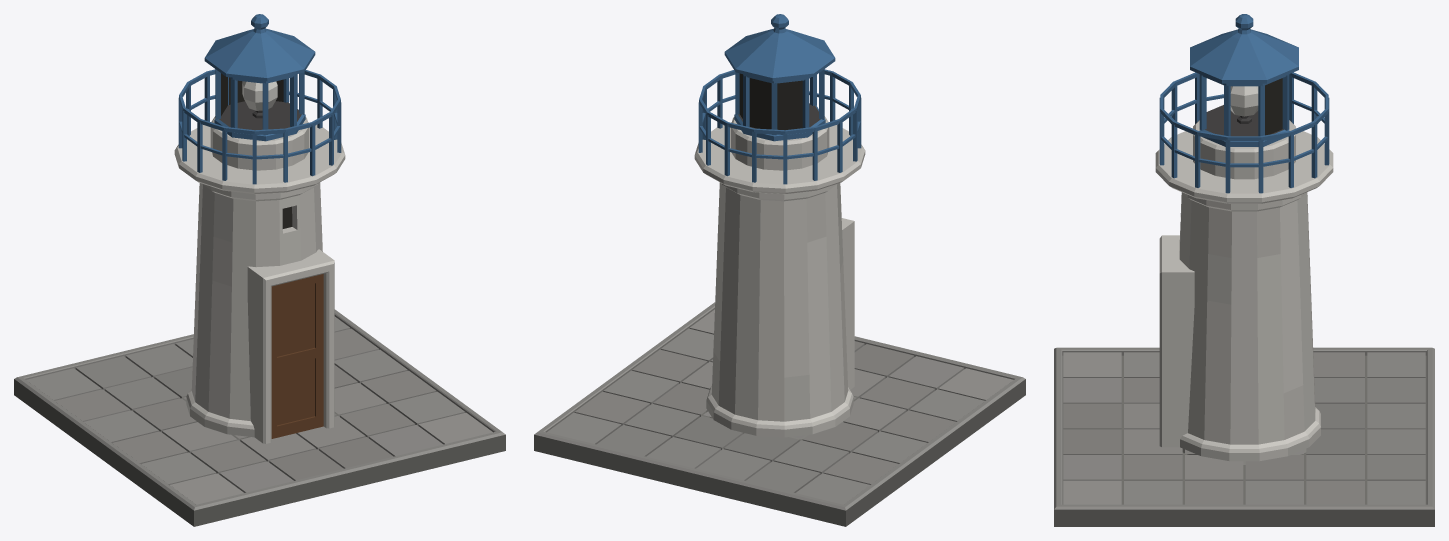
Rendered from mole-lighthouse-c690b4.glb.
3 renders of one model, left to right at view 1: azimuth 30°, elevation 25°; view 2: azimuth 150°, elevation 25°; view 3: azimuth 270°, elevation 25°, orthographic. The views are drawn at different scales.
Visible parts, largest first — view 1: tower, optic-lens; view 2: tower; view 3: tower, optic-lens.
Part boxes in pixels (box(x1,y1,x2,y2)): tower: box(14, 14, 505, 526); optic-lens: box(242, 81, 277, 118); tower: box(534, 14, 1025, 526); tower: box(1054, 14, 1434, 526); optic-lens: box(1230, 86, 1258, 123).
Bounding box in the file's own units: 4 × 5 × 4.
